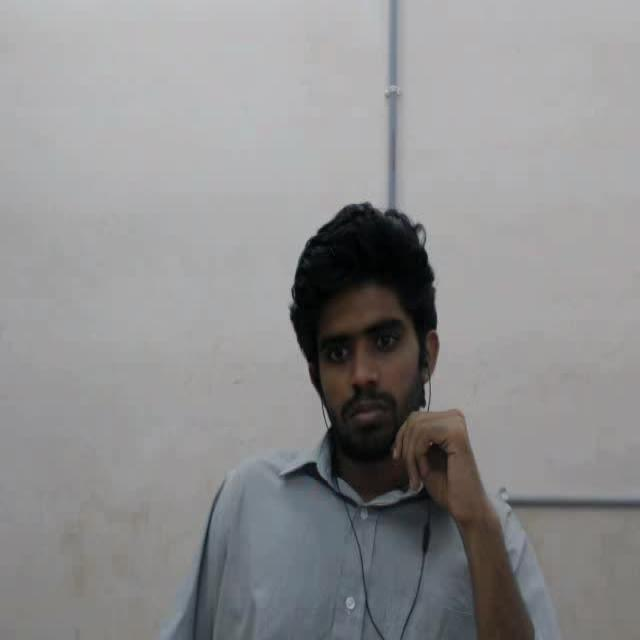Bored: (274, 199, 468, 480)
